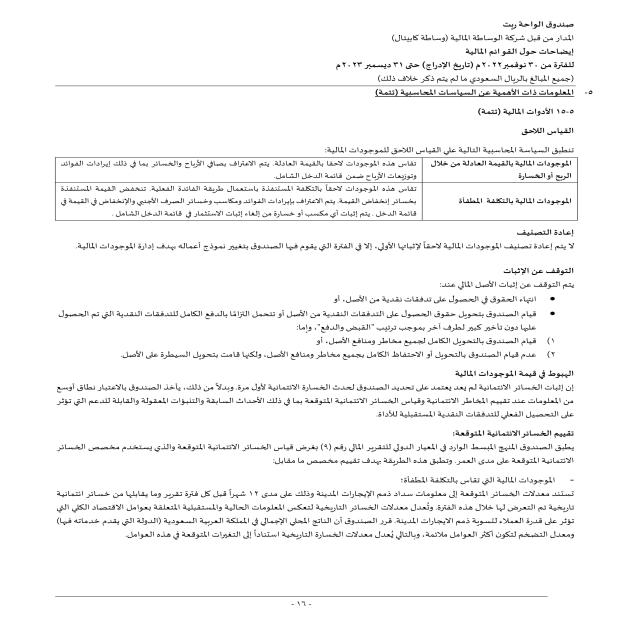notes: (444, 46, 578, 60)
table: (48, 152, 584, 227)
